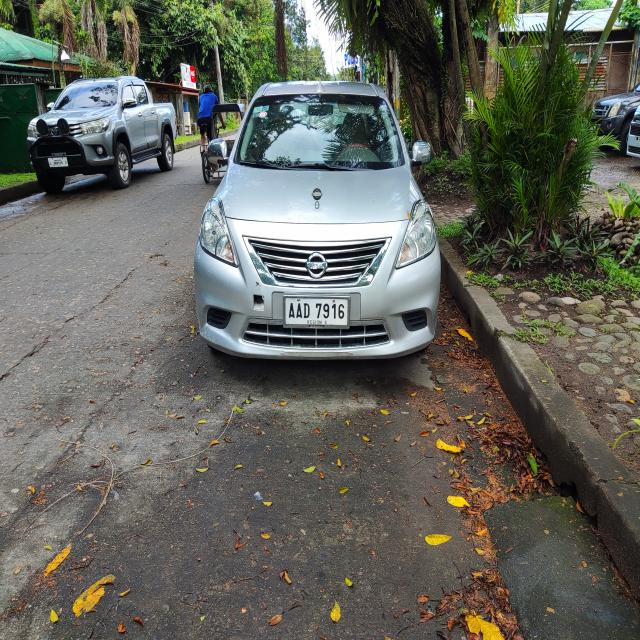plate: (282, 293, 351, 330)
